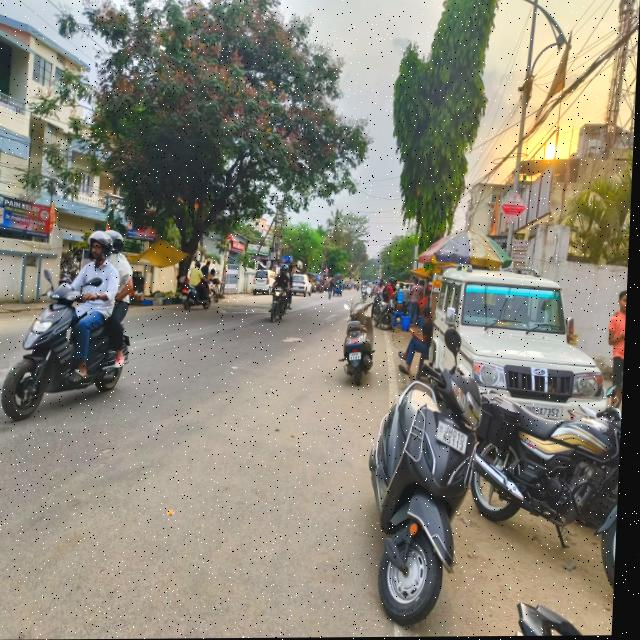bike: (373, 360, 493, 626), (484, 369, 627, 588), (0, 279, 150, 439), (337, 293, 380, 399), (184, 279, 217, 312), (273, 282, 295, 330), (378, 295, 399, 335)
car: (429, 263, 614, 419), (255, 268, 280, 298), (295, 272, 317, 299), (348, 281, 354, 292)
